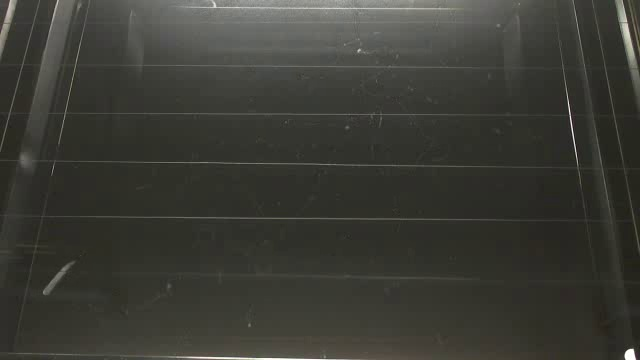Alfa: (37, 258, 76, 299)
